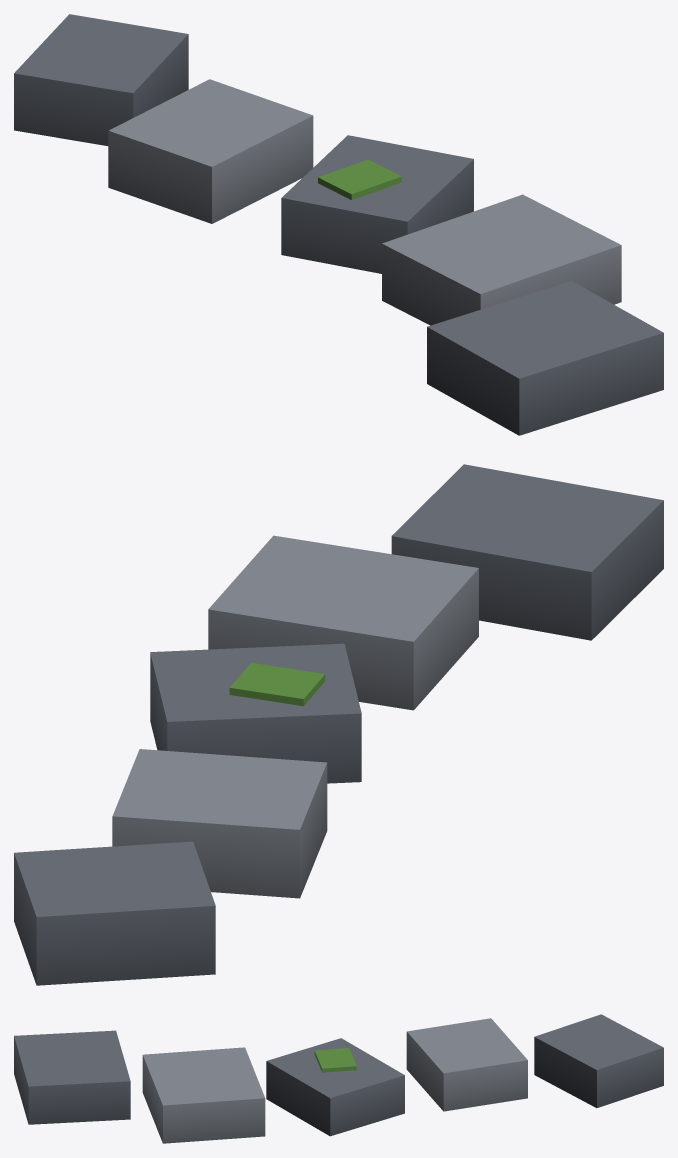
Rendered from C10_stepping_stones.glb.
3 renders of one model, top to bottom at view 1: azimuth 30°, elevation 25°; view 2: azimuth 150°, elevation 25°; view 3: azimuth 270°, elevation 25°, orthographic. The views are drawn at different scales.
Parts seen in each view (by area): view 1: C10_stepping_stones; view 2: C10_stepping_stones; view 3: C10_stepping_stones.
Part boxes in pixels (<box>): C10_stepping_stones: <box>14,14,663,435</box>; C10_stepping_stones: <box>14,464,663,985</box>; C10_stepping_stones: <box>14,1014,663,1143</box>.
Bounding box in the file's own units: 1.23 × 0.265 × 3.7.
